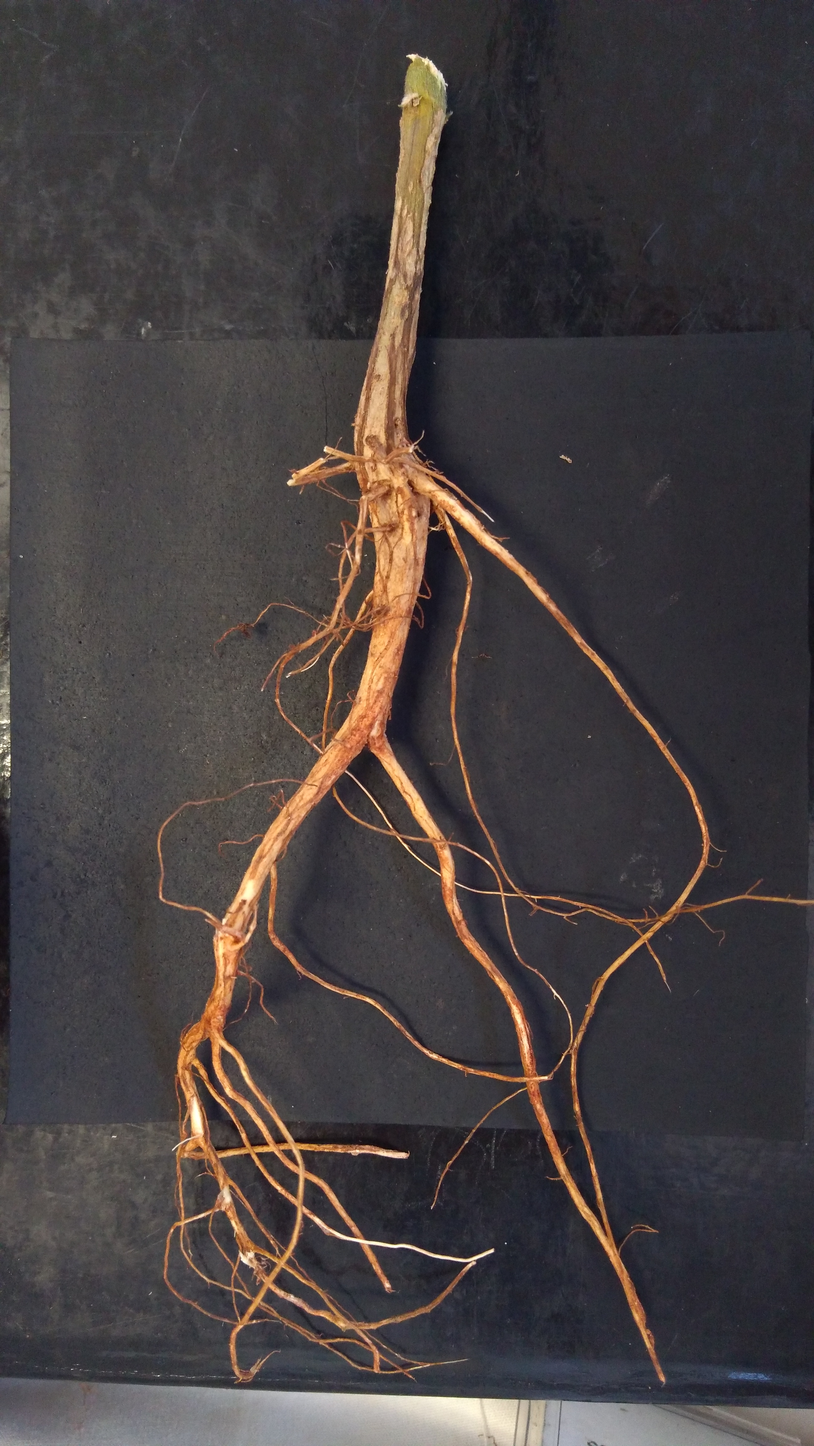nodule: (311, 630, 318, 636)
